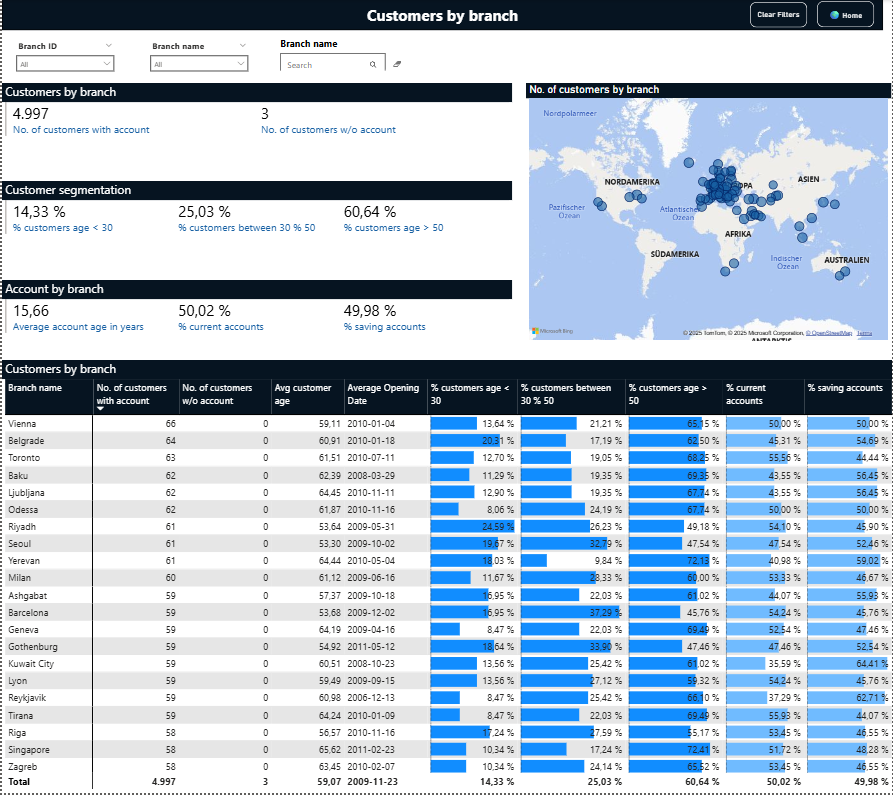

The dashboard page shown, as its layout file describes it:
{"tool":"powerbi","page":{"name":"Customers by branch","canvas":[1400,1250],"ordinal":1},"visuals":[{"type":"shape","title":"Transactions","box":[0,0,1387,49],"z":0},{"type":"actionButton","title":"Home_Button","box":[1283.8,3.4,90,41.2],"z":2000},{"type":"slicer","title":"Traffic_Industry_Filter","fields":{"Values":["reporting__high_lvl_customer_kpis.branch_name"]},"box":[222.9,59.9,173.8,57.5],"z":4000},{"type":"slicer","title":"Traffic_Industry_Filter","fields":{"Values":["reporting__high_lvl_customer_kpis.branch_id"]},"box":[12.5,59.9,173.8,57.5],"z":5000},{"type":"pivotTable","title":"Customers by branch","fields":{"Rows":["reporting__high_lvl_customer_kpis.branch_name"],"Values":["Measure table.No. of customers","Sum(reporting__high_lvl_customer_kpis.customers_without_account)","Avg(reporting__high_lvl_customer_kpis.avg_customer_age)","Measure table.Average Opening Date","Avg(reporting__high_lvl_customer_kpis.share_customers_under_30)","Avg(reporting__high_lvl_customer_kpis.share_customers_30_to_50)","Avg(reporting__high_lvl_customer_kpis.share_customers_over_50)","Avg(reporting__high_lvl_customer_kpis.share_current_accounts)","Avg(reporting__high_lvl_customer_kpis.share_savings_accounts)"]},"box":[0,568.9,1548.9,681.1],"z":6000},{"type":"textFilter25A4896A83E0487089E2B90C9AE57C8A","title":"Branch name","fields":{"field":["reporting__high_lvl_customer_kpis.branch_name"]},"box":[433.3,59.4,213.3,58.3],"z":7000},{"type":"map","title":"No. of customers by branch ","fields":{"Category":["reporting__high_lvl_customer_kpis.branch_name"],"Size":["Sum(reporting__high_lvl_customer_kpis.unique_customers)"]},"box":[825,132,575,410],"z":8000},{"type":"multiRowCard","title":"Account by branch","fields":{"Values":["Avg(reporting__high_lvl_customer_kpis.avg_account_age_years)","Avg(reporting__high_lvl_customer_kpis.share_current_accounts)","Avg(reporting__high_lvl_customer_kpis.share_savings_accounts)"]},"box":[0,442.2,803.3,100],"z":9000},{"type":"multiRowCard","title":"Customers by branch","fields":{"Values":["Measure table.No. of customers","Sum(reporting__high_lvl_customer_kpis.customers_without_account)"]},"box":[0,132,803.3,100],"z":10000},{"type":"actionButton","title":"Clear Filters Invoices","box":[1177.5,4.1,90,40],"z":11000},{"type":"multiRowCard","title":"Customer segmentation","fields":{"Values":["Avg(reporting__high_lvl_customer_kpis.share_customers_under_30)","Avg(reporting__high_lvl_customer_kpis.share_customers_30_to_50)","Avg(reporting__high_lvl_customer_kpis.share_customers_over_50)"]},"box":[0,287.1,803.3,100],"z":12000}]}

Visuals, with their boxes in screenshot pixels (x1, y1, x2, y2), scaled from the page's 1400x1250 canvas onto the 893x795 screenshot:
"Transactions" shape: (0, 0, 885, 31)
"Home_Button" actionButton: (819, 2, 876, 28)
"Traffic_Industry_Filter" slicer: (142, 38, 253, 75)
"Traffic_Industry_Filter" slicer: (8, 38, 119, 75)
"Customers by branch" pivotTable: (0, 362, 892, 794)
"Branch name" textFilter25A4896A83E0487089E2B90C9AE57C8A: (276, 38, 412, 75)
"No. of customers by branch " map: (526, 84, 892, 345)
"Account by branch" multiRowCard: (0, 281, 512, 345)
"Customers by branch" multiRowCard: (0, 84, 512, 148)
"Clear Filters Invoices" actionButton: (751, 3, 808, 28)
"Customer segmentation" multiRowCard: (0, 183, 512, 246)
